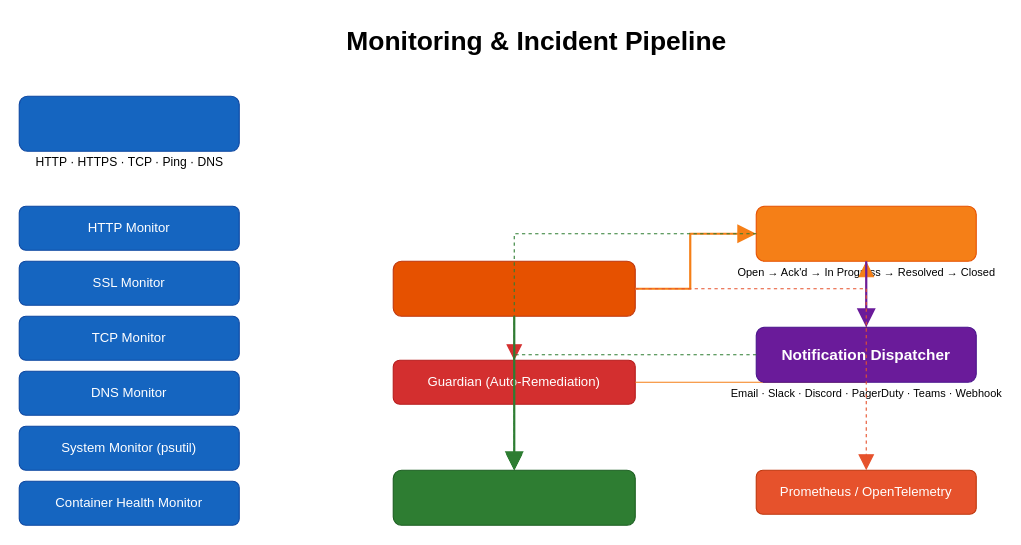
The diagram is 1021 pixels wide and 545 high, and some of its shapes have lost their labels. The shapes that lost their labels are listed below. From the top down, each one's box as (x1, y1, x2, y2) in pixels, then its label:
(18, 95, 239, 151): Monitoring Targets
(755, 205, 976, 261): Incident Manager
(392, 260, 635, 316): Monitoring Engine / Orchestrator
(392, 469, 635, 525): Dashboard (Next.js / Grafana)
